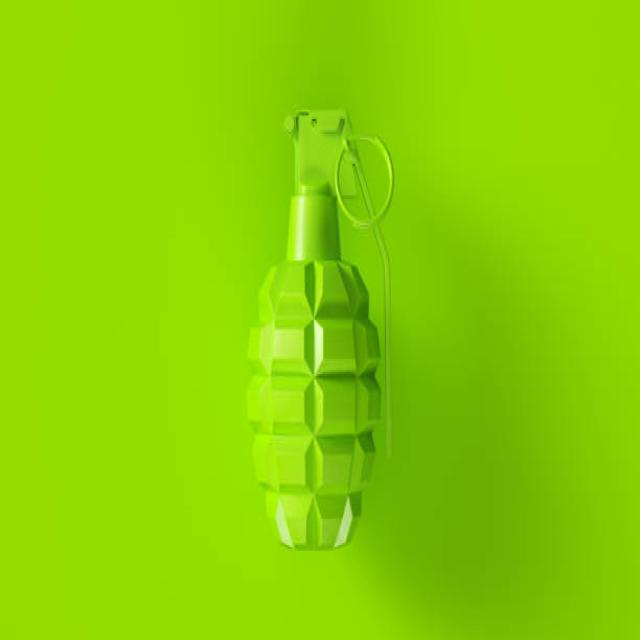grenade: (244, 97, 405, 561)
